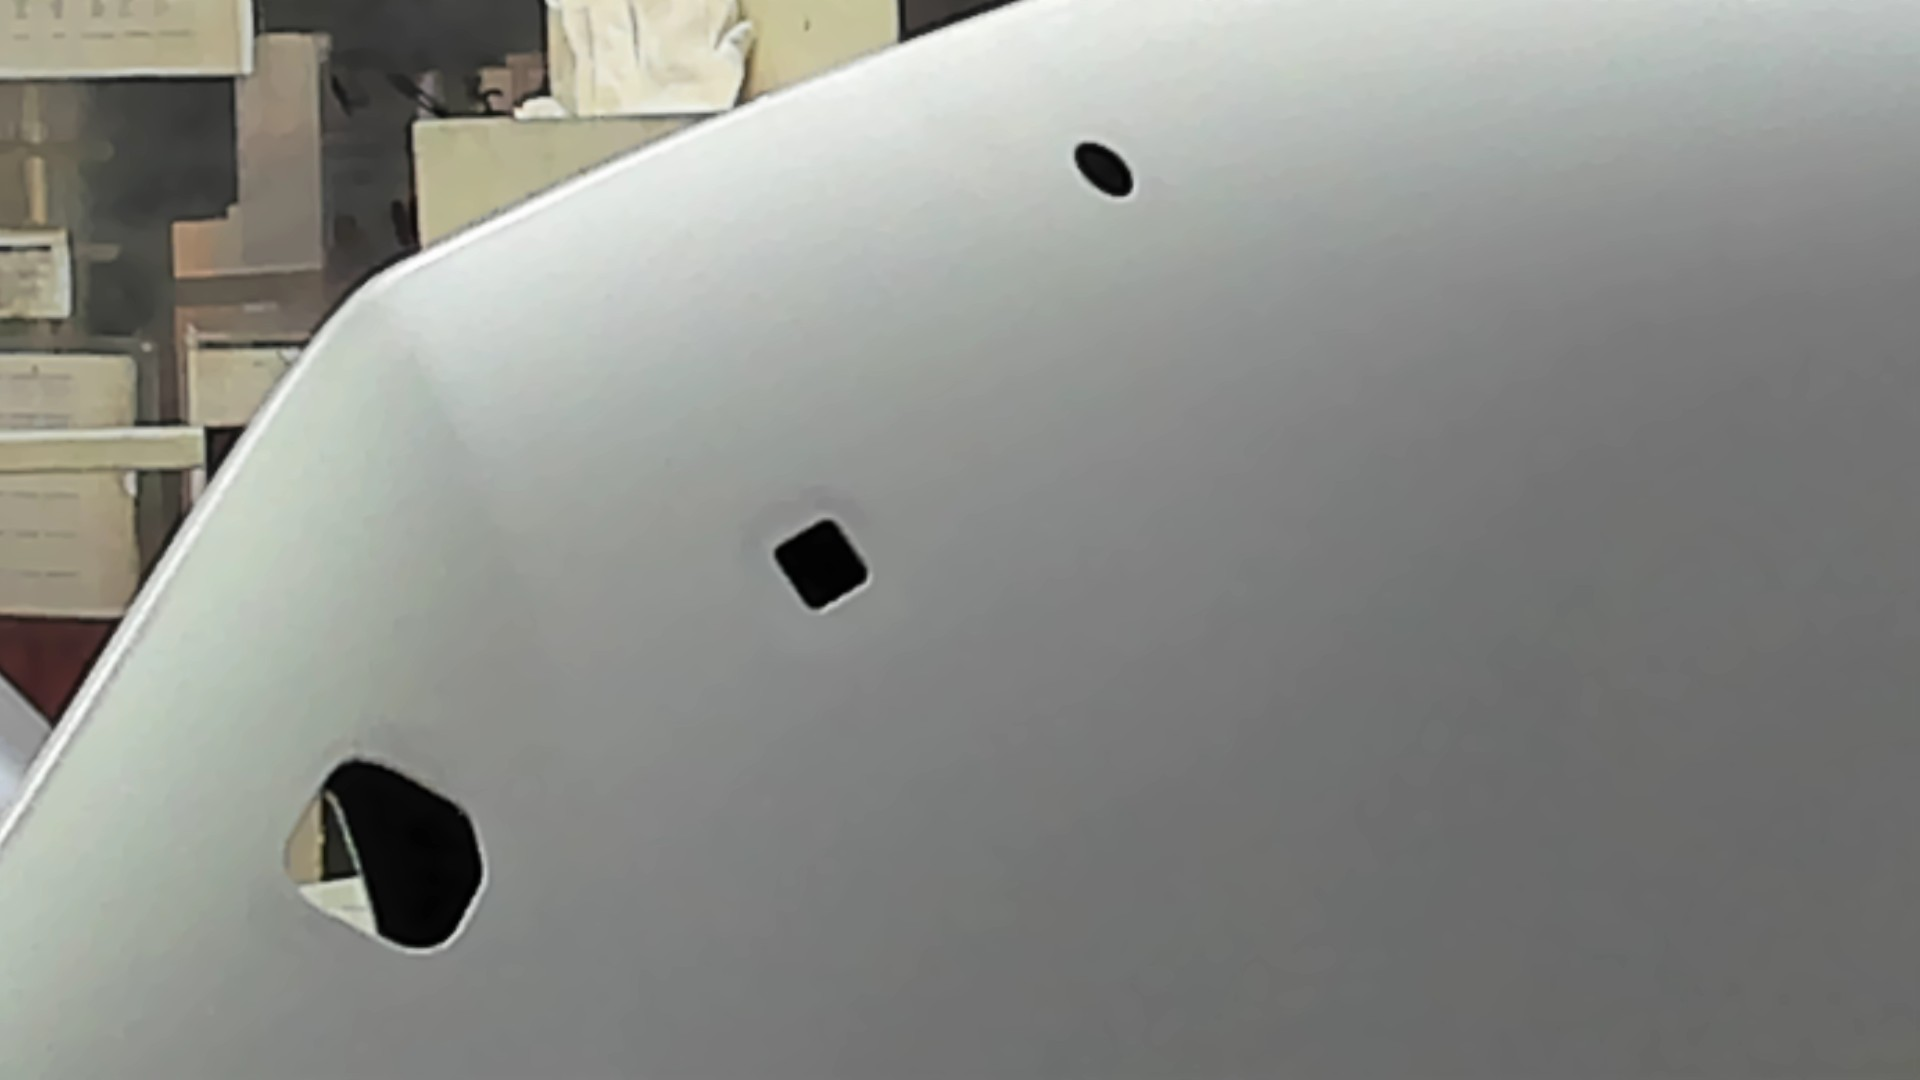capo: (887, 225, 1920, 1080)
chico: (1072, 136, 1135, 204)
grande: (276, 744, 492, 959)
mediano: (764, 508, 881, 622)
